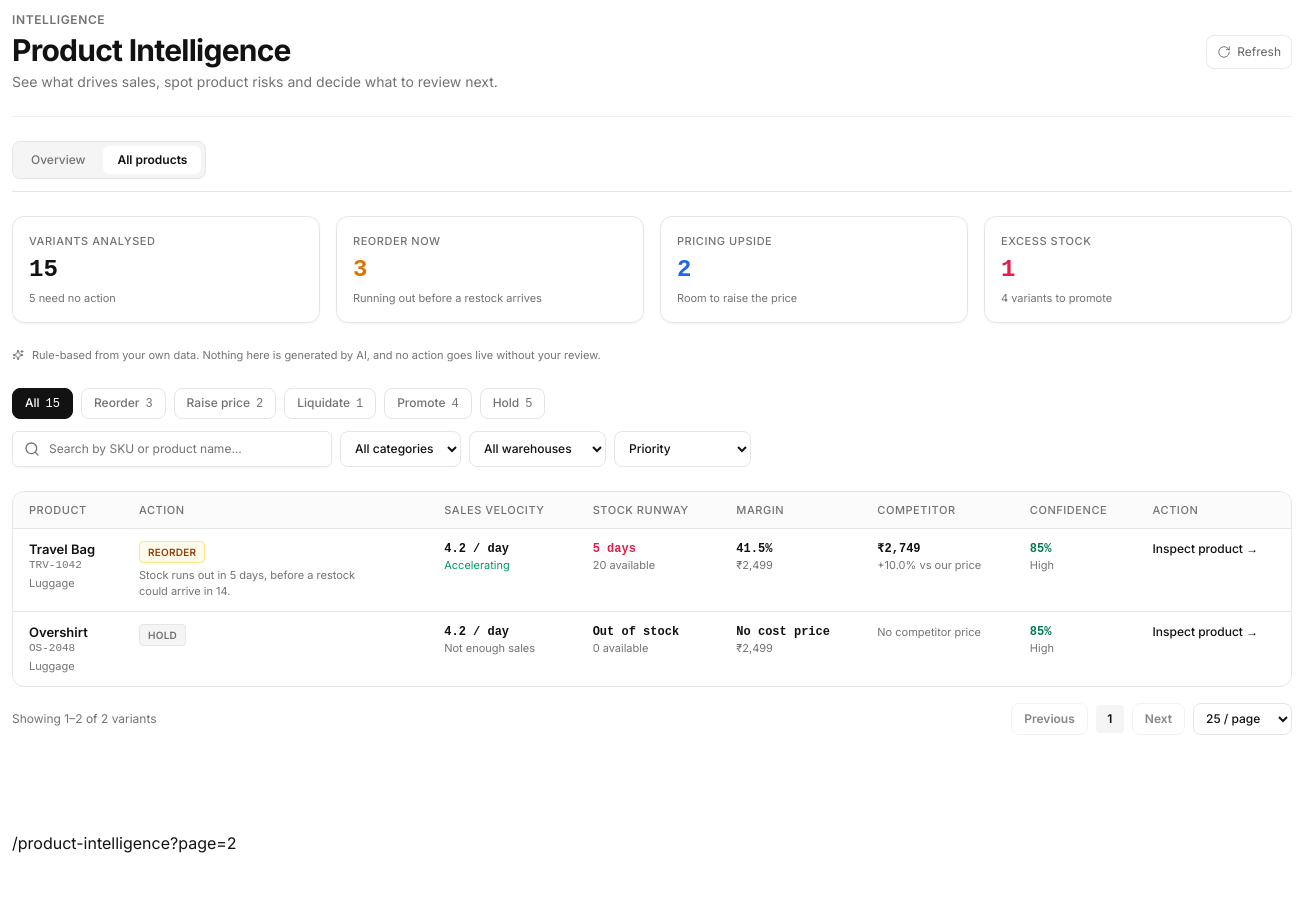
Test case: ProductIntelligencePage list › debounces the search into the URL and goes back to page 1
This screenshot has width=1304, height=912.
Expected: the text "Travel Bag" is shown, [29, 540, 95, 556]
Type "bag" into the search field with placeholder "Search by SKU or product name..." at coordinates (172, 448), box [12, 430, 332, 466]
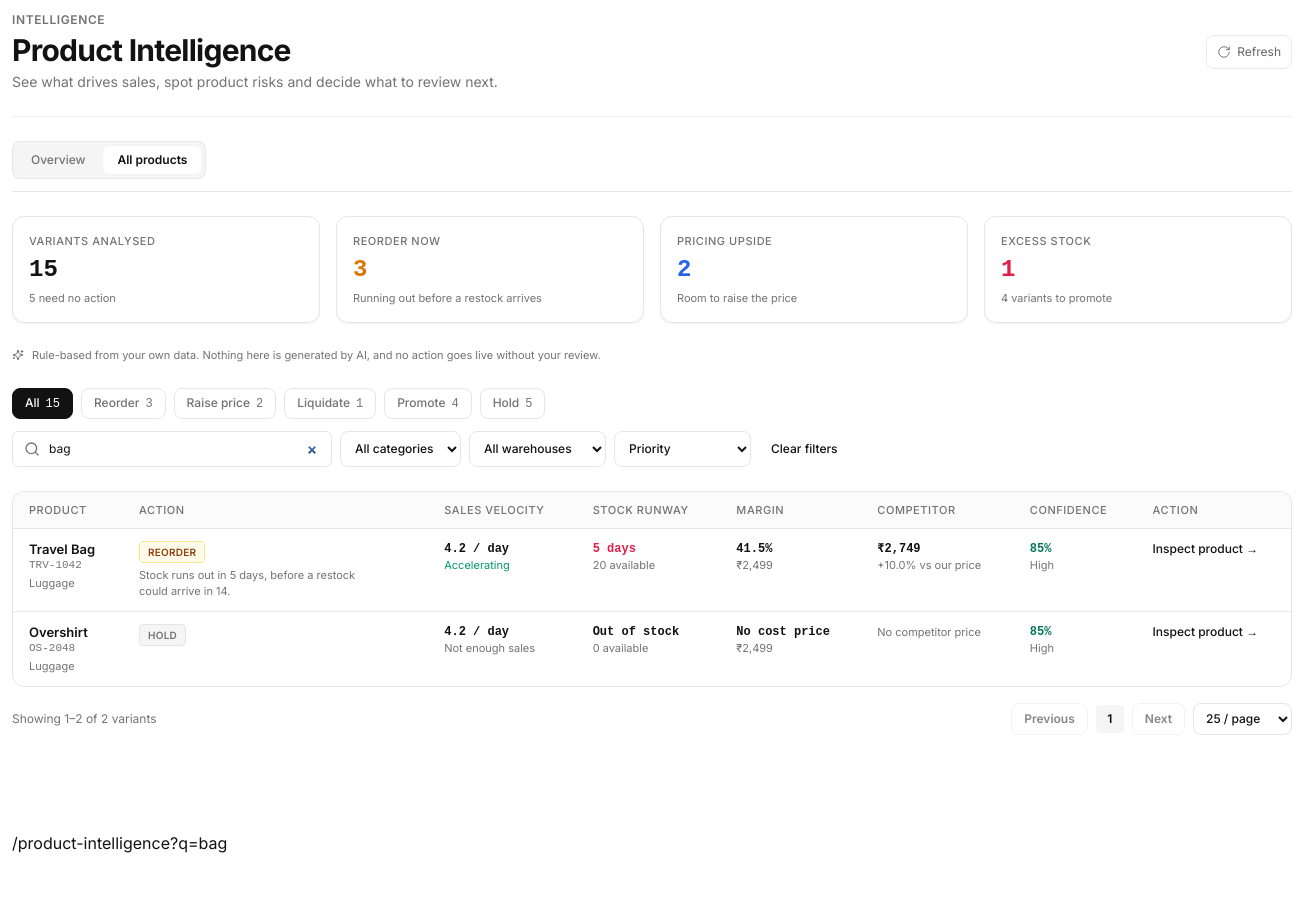
Result: the text with test id "loc" reads "/product-intelligence?q=bag" at [12, 832, 227, 852]
